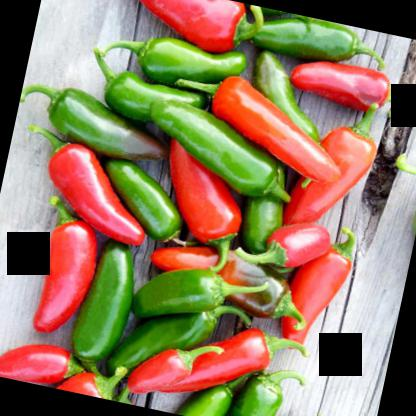chilli: (163, 67, 354, 188), (13, 125, 160, 246), (103, 282, 251, 402), (140, 233, 318, 331), (153, 309, 310, 415), (281, 88, 388, 240), (11, 78, 173, 168), (147, 140, 258, 268), (20, 186, 110, 340), (271, 218, 362, 358), (128, 252, 268, 340), (94, 20, 248, 96), (244, 5, 393, 76), (97, 0, 263, 63), (68, 238, 140, 376), (94, 155, 196, 247), (122, 332, 224, 410), (286, 55, 407, 117), (241, 209, 334, 279), (207, 355, 308, 415), (26, 348, 130, 402), (169, 359, 252, 415), (0, 334, 79, 392), (244, 398, 330, 415)
